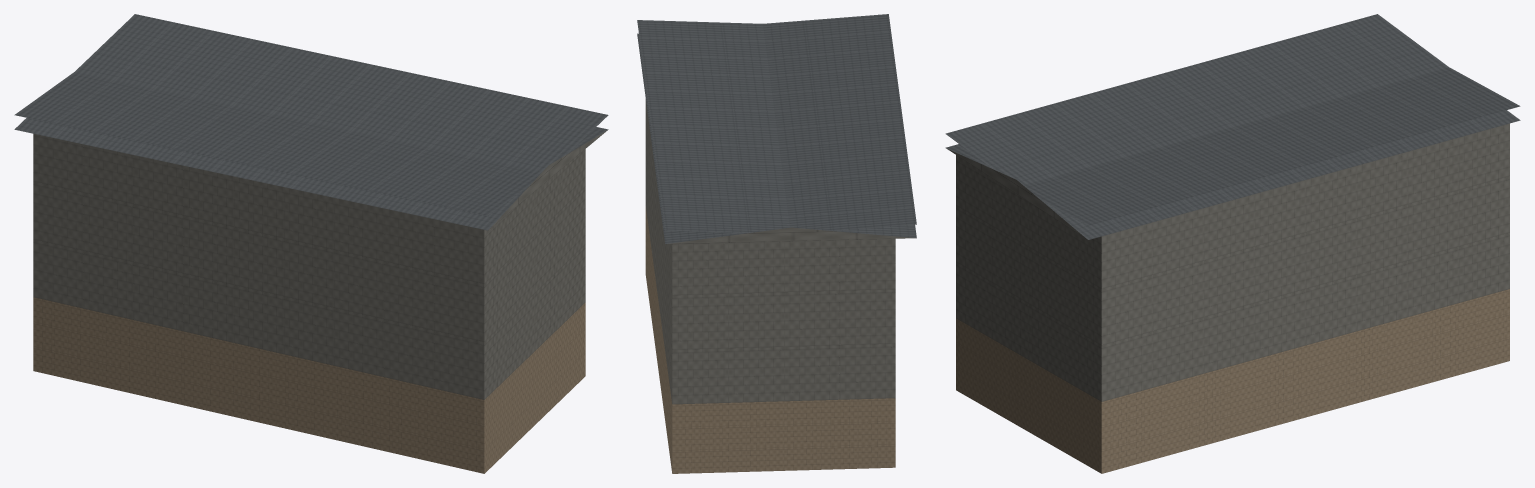
File: bld_c8_6_511.gltf
The picture shows the model from 3 angles, left to right: view 1: azimuth 30°, elevation 25°; view 2: azimuth 150°, elevation 25°; view 3: azimuth 270°, elevation 25°; orthographic projection. The views are drawn at different scales.
Parts seen in each view (by area): view 1: bld_c8_6_511; view 2: bld_c8_6_511; view 3: bld_c8_6_511.
Part boxes in pixels (x1,y1,x2,y2): bld_c8_6_511: (14,14,608,473); bld_c8_6_511: (637,14,916,473); bld_c8_6_511: (945,14,1520,473).
Bounding box in the file's own units: 32.2 × 18.1 × 36.94.
4 materials, 4 textured.
